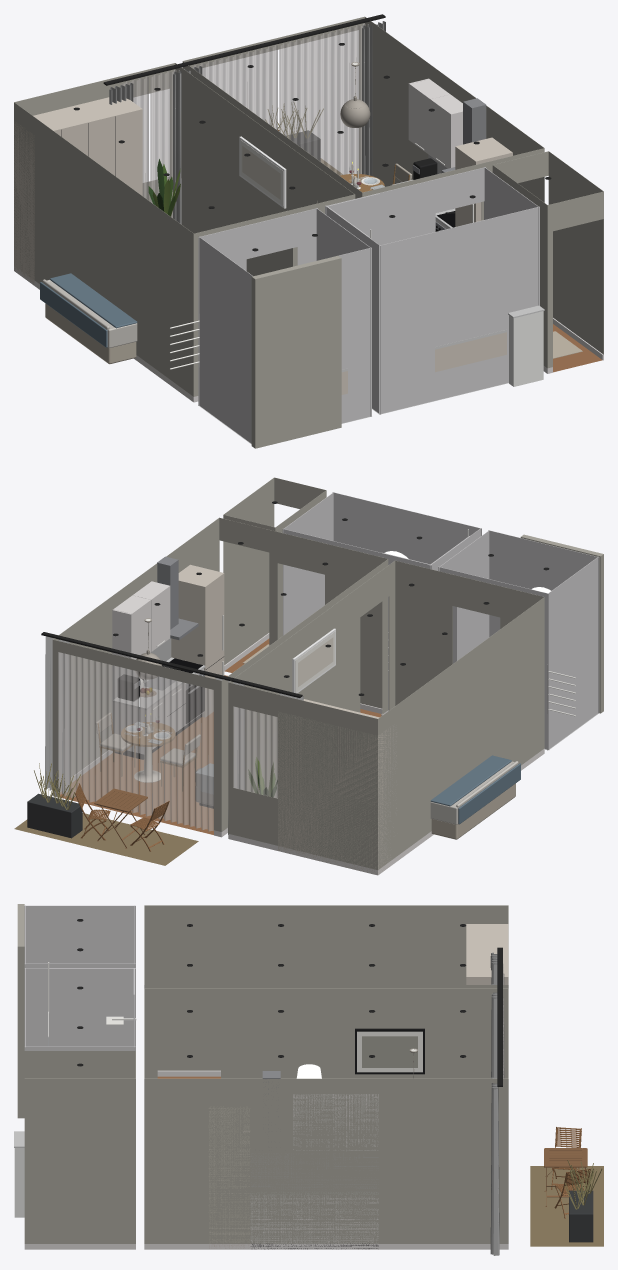
File: unit-1.A-atlantic.glb
3 views of the same model, one above another, from view 1: azimuth 30°, elevation 25°; view 2: azimuth 150°, elevation 25°; view 3: azimuth 270°, elevation 25° (orthographic). The views are drawn at different scales.
Parts seen in each view (by area): view 1: int-wall, int-bathWall, int-sheer, int-joineryTall, int-joinery, int-curtain, int-bedThrow, int-whiteGloss, int-matteBlack, int-headboard, int-showerWall, int-duvet (+7 smaller); view 2: int-wall, int-bathWall, int-sheer, int-joineryTall, int-floor, int-joinery, int-curtain, int-deck, int-bedThrow, int-skirting, int-matteBlack, int-outdoor (+15 smaller); view 3: int-wall, int-bathWall, int-showerWall, int-deck, int-joineryTall, int-joinery, int-skirting, int-curtain, int-art:1:2, int-outdoor, int-matteBlack, int-passepartout (+7 smaller).
Part boxes in pixels (x1,y1,x2,y2): int-wall: (14, 16, 603, 448); int-bathWall: (198, 167, 539, 443); int-sheer: (122, 23, 365, 217); int-joineryTall: (14, 97, 512, 394); int-joinery: (408, 78, 462, 229); int-curtain: (109, 21, 385, 224); int-bedThrow: (40, 273, 137, 347); int-whiteGloss: (509, 311, 543, 386); int-matteBlack: (103, 14, 455, 214); int-headboard: (45, 303, 136, 364); int-showerWall: (325, 193, 379, 244); int-duvet: (42, 279, 137, 348); int-wall: (52, 477, 603, 869); int-bathWall: (282, 492, 599, 750); int-sheer: (58, 652, 277, 831); int-joineryTall: (171, 564, 396, 874); int-floor: (60, 675, 381, 834); int-joinery: (112, 581, 203, 754); int-curtain: (45, 636, 303, 834); int-deck: (14, 813, 198, 865); int-bedThrow: (430, 755, 520, 824); int-skirting: (52, 633, 544, 875); int-matteBlack: (41, 632, 302, 759); int-outdoor: (27, 793, 82, 838); int-wall: (17, 904, 508, 1243); int-bathWall: (24, 905, 135, 1050); int-showerWall: (48, 968, 135, 1046); int-deck: (530, 1166, 603, 1246); int-joineryTall: (209, 924, 508, 1248); int-joinery: (250, 1094, 378, 1243); int-skirting: (24, 1070, 508, 1249); int-curtain: (490, 952, 499, 1255); int-art:1:2: (362, 1036, 417, 1067); int-outdoor: (569, 1190, 593, 1242); int-matteBlack: (251, 947, 502, 1249); int-passepartout: (357, 1031, 422, 1072).
Bounding box in the file's own units: 6.62 × 2.8 × 8.41.
